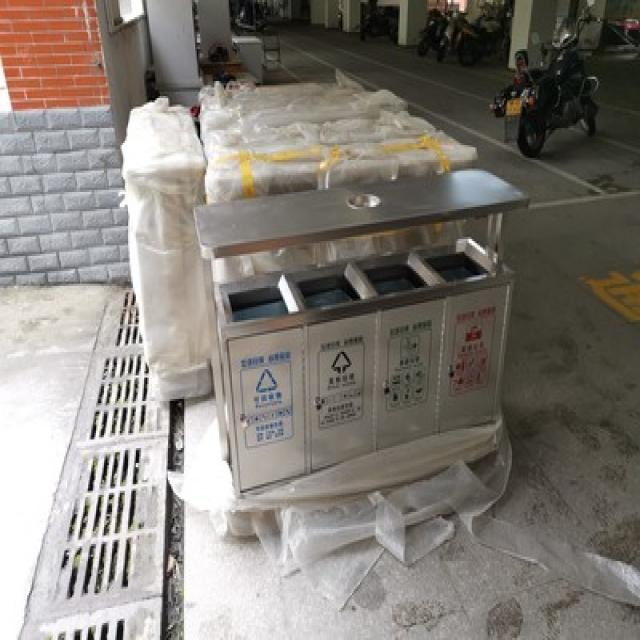ash bin: (192, 162, 523, 493)
motorbike: (488, 2, 600, 156)
